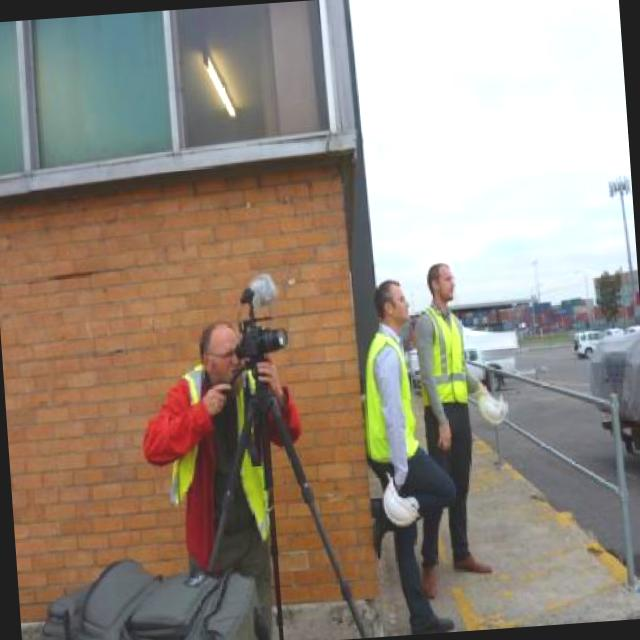Person: (135, 315, 311, 640), (352, 274, 464, 636), (415, 255, 494, 572)
